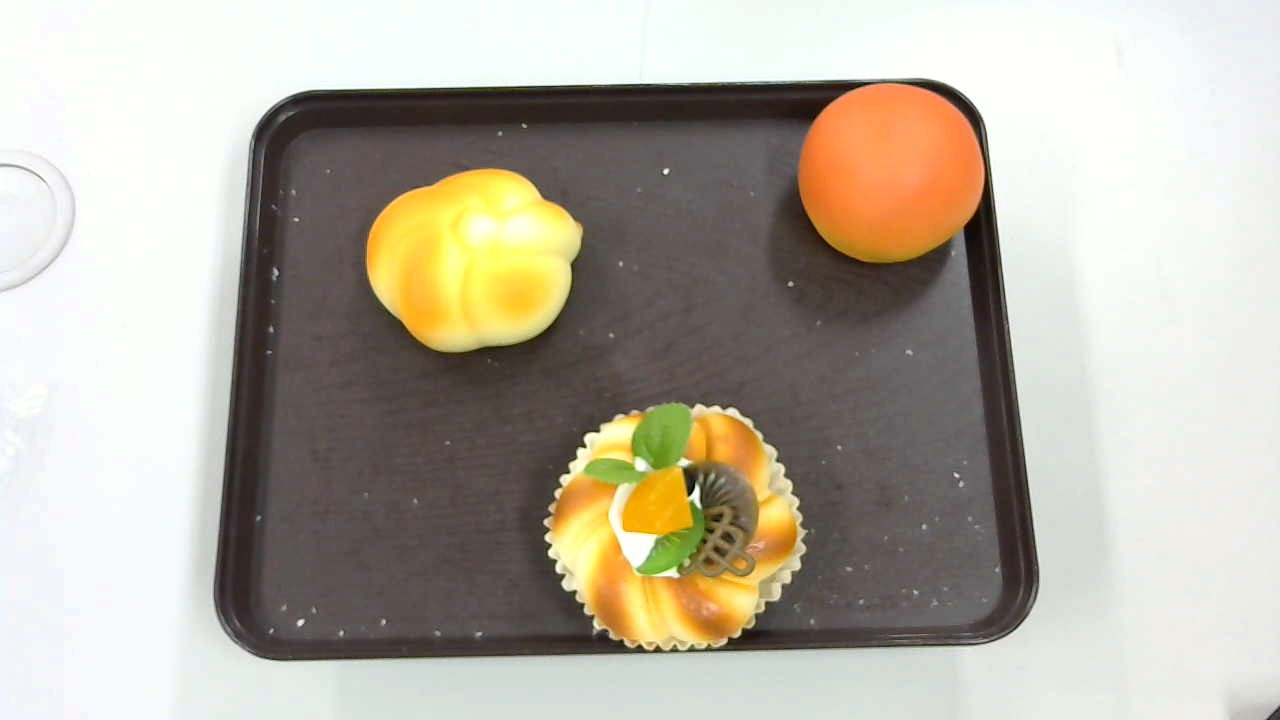bun: (796, 83, 984, 264)
fruit tart: (544, 400, 807, 652)
twist bread: (365, 168, 584, 354)
